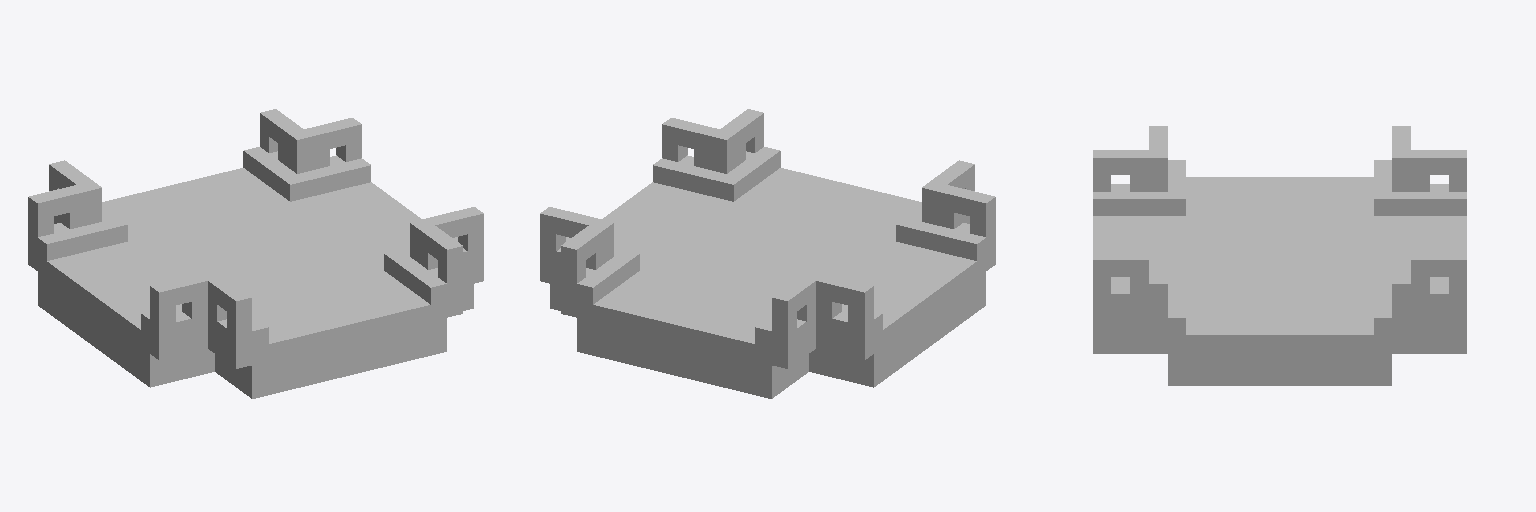
File: wall_1111.obj
The picture shows the model from 3 angles: view 1: azimuth 30°, elevation 25°; view 2: azimuth 150°, elevation 25°; view 3: azimuth 270°, elevation 25°; orthographic projection.
Parts seen in each view (by area): view 1: wall_1111; view 2: wall_1111; view 3: wall_1111.
Boxes of the visible parts, x1=… form: wall_1111: x1=28, y1=109, x2=483, y2=398; wall_1111: x1=540, y1=109, x2=995, y2=398; wall_1111: x1=1093, y1=126, x2=1466, y2=385.
Bounding box in the file's own units: 20 × 6 × 20.